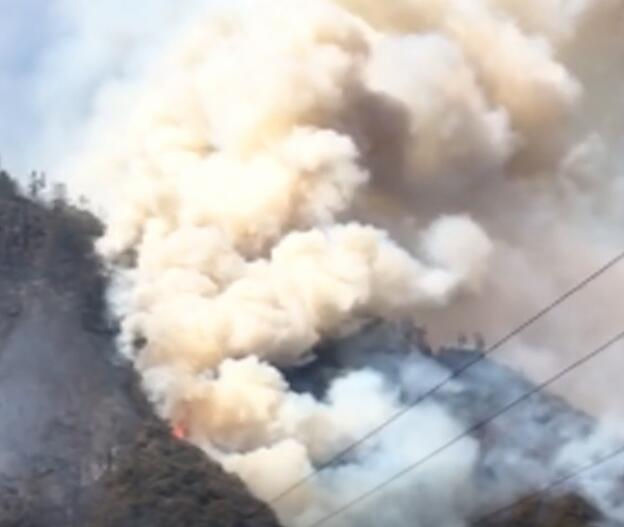yanwu: (92, 0, 624, 522)
